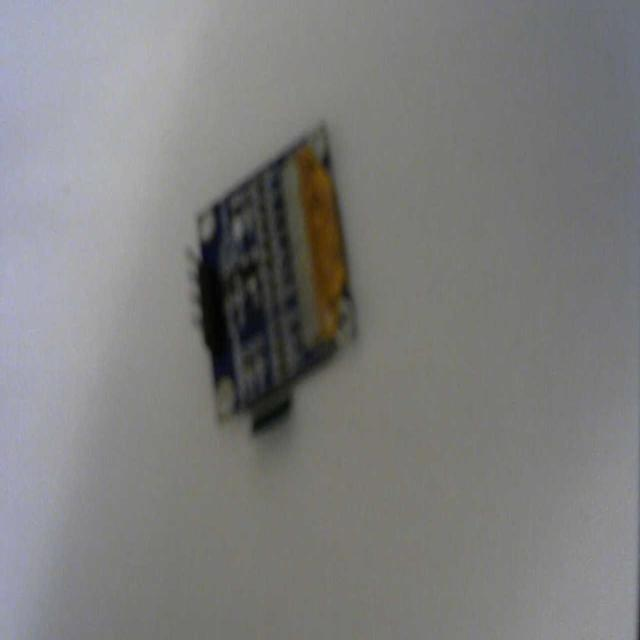oled: (186, 123, 362, 437)
